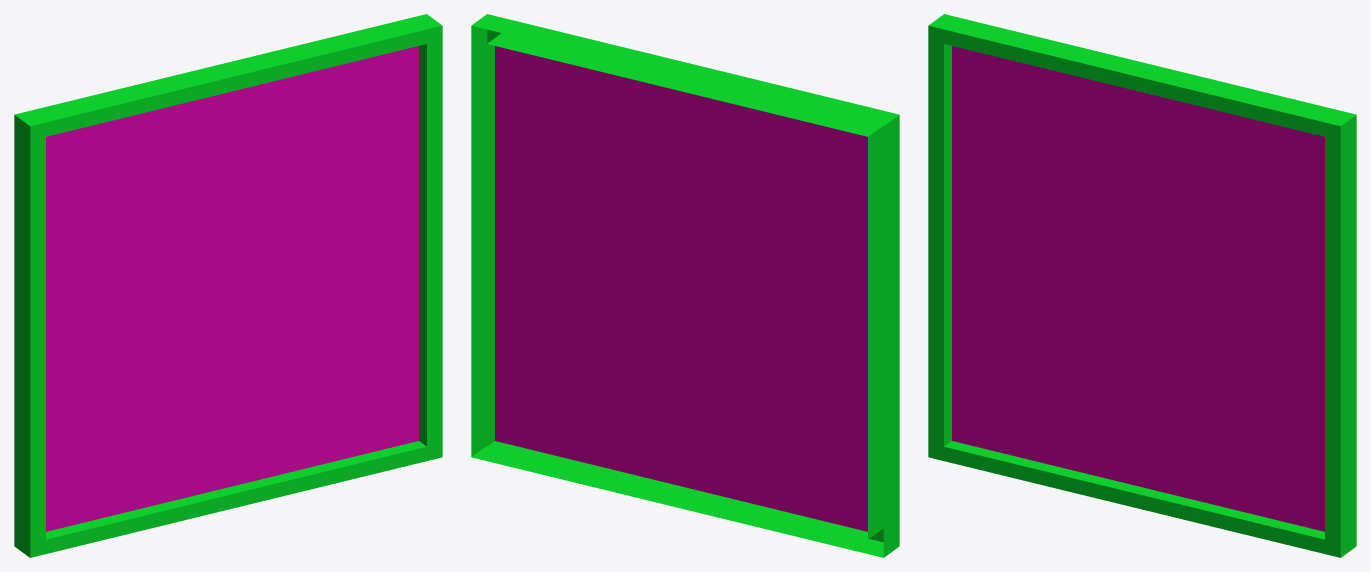
File: SmallWindow.fbx
3 renders of one model, left to right at view 1: azimuth 30°, elevation 25°; view 2: azimuth 150°, elevation 25°; view 3: azimuth 330°, elevation 25°, orthographic.
Visible parts, largest first — view 1: WindowSmol_Glass, WindowSmol; view 2: WindowSmol_Glass, WindowSmol; view 3: WindowSmol_Glass, WindowSmol.
Part boxes in pixels (left/top/right/bottom): WindowSmol_Glass: left=46, top=46, right=418, bottom=531; WindowSmol: left=14, top=14, right=442, bottom=557; WindowSmol_Glass: left=495, top=46, right=867, bottom=531; WindowSmol: left=471, top=14, right=899, bottom=557; WindowSmol_Glass: left=952, top=46, right=1324, bottom=531; WindowSmol: left=928, top=14, right=1356, bottom=557.
Size of the model in its own units: 150 by 150 by 10.04.
